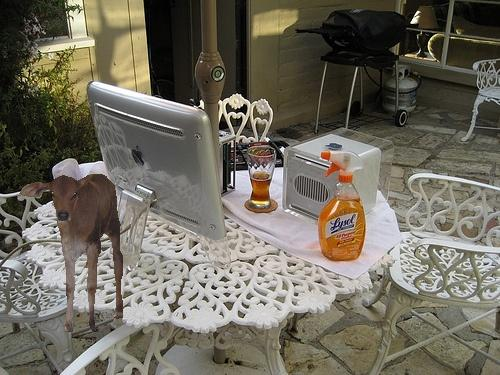tampered: (20, 175, 123, 332)
